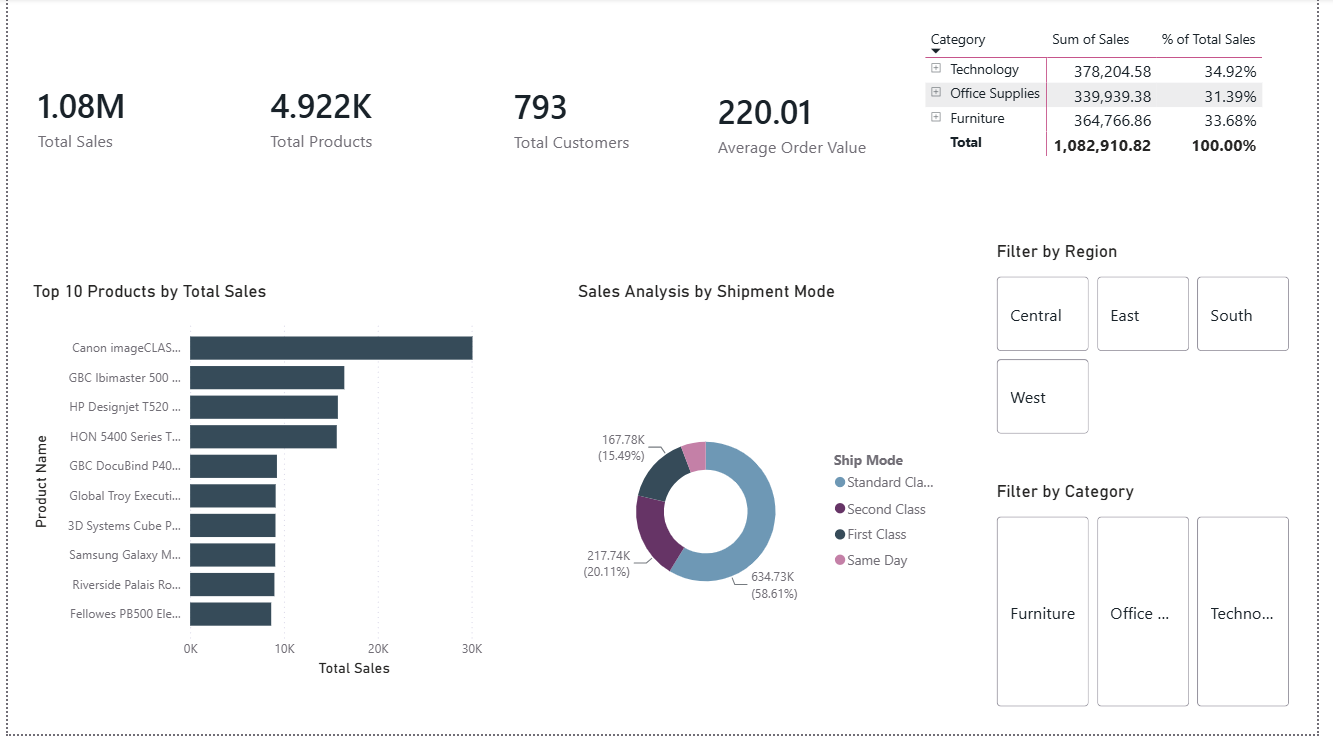

The dashboard page shown, as its layout file describes it:
{"tool":"powerbi","page":{"name":"Product Analysis","canvas":[1280,720],"ordinal":2},"visuals":[{"type":"barChart","title":"Top 10 Products by Total Sales","fields":{"Category":["DimProduct.Product Name"],"Y":["Sum(Fact.Sales)"]},"box":[20,276.2,495,392.5],"z":0},{"type":"advancedSlicerVisual","fields":{"Values":["DimProduct.Category"]},"box":[962.4,472,297.9,226.6],"z":1000},{"type":"cardVisual","fields":{"Data":["Sum(Fact.Sales)"]},"box":[0,11,198.1,210.3],"z":2000},{"type":"pivotTable","fields":{"Rows":["DimProduct.Category","DimProduct.Sub-Category"],"Values":["Sum(Fact.Sales)","DimCustomer.% of Total Sales"]},"box":[892.7,24.5,368.1,165.1],"z":3000},{"type":"cardVisual","fields":{"Data":["CountNonNull(Fact.Product ID)"]},"box":[227.4,12.2,209.1,209.1],"z":4000},{"type":"donutChart","title":"Sales Analysis by Shipment Mode","fields":{"Category":["DimShipment.Ship Mode"],"Y":["Sum(Fact.Sales)"]},"box":[526.4,276.1,394.5,421.5],"z":5000},{"type":"cardVisual","fields":{"Data":["DimCustomer.Total Customers"]},"box":[465.9,19.6,173.6,196.9],"z":6000},{"type":"cardVisual","fields":{"Data":["DimCustomer.Average Order Value"]},"box":[665.2,24.5,212.8,196.9],"z":8000},{"type":"advancedSlicerVisual","title":"Filter by Region","fields":{"Values":["DimCustomer.Region"]},"box":[962.6,246.8,298.4,195.7],"z":8001}]}

Visuals, with their boxes in screenshot pixels (x1, y1, x2, y2), scaled from the page's 1280x720 canvas onto the 1333x737 screenshot:
"Top 10 Products by Total Sales" barChart: locate(21, 283, 536, 684)
advancedSlicerVisual - DimProduct.Category: locate(1002, 483, 1312, 715)
cardVisual - Sum(Fact.Sales): locate(0, 11, 206, 227)
pivotTable - DimProduct.Category x DimProduct.Sub-Category: locate(930, 25, 1313, 194)
cardVisual - CountNonNull(Fact.Product ID): locate(237, 12, 455, 227)
"Sales Analysis by Shipment Mode" donutChart: locate(548, 283, 959, 714)
cardVisual - DimCustomer.Total Customers: locate(485, 20, 666, 222)
cardVisual - DimCustomer.Average Order Value: locate(693, 25, 914, 227)
"Filter by Region" advancedSlicerVisual: locate(1002, 253, 1313, 453)
